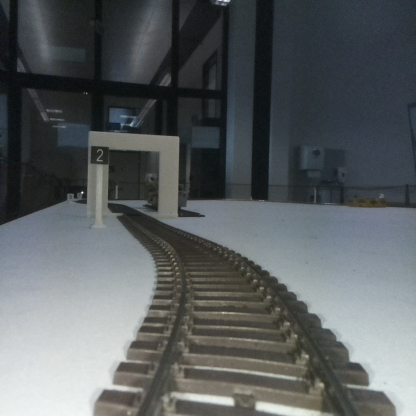black-info-2: (91, 146, 109, 226)
